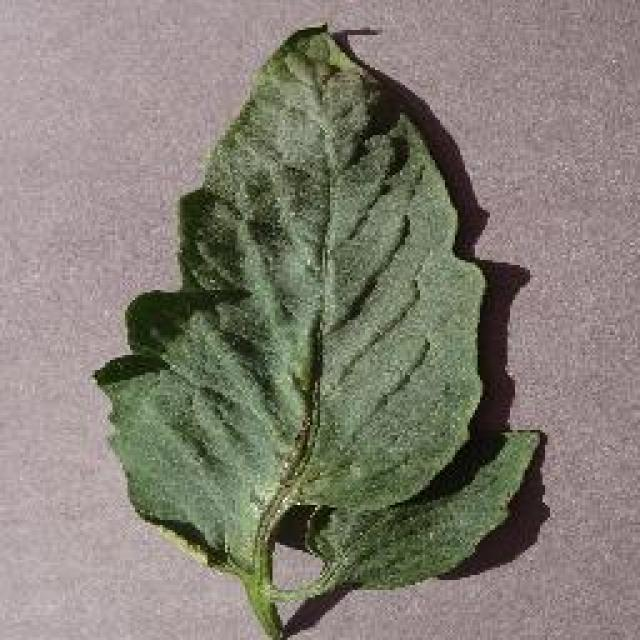Tomato Septoria spot leaf: (96, 26, 484, 549), (305, 429, 545, 591)
